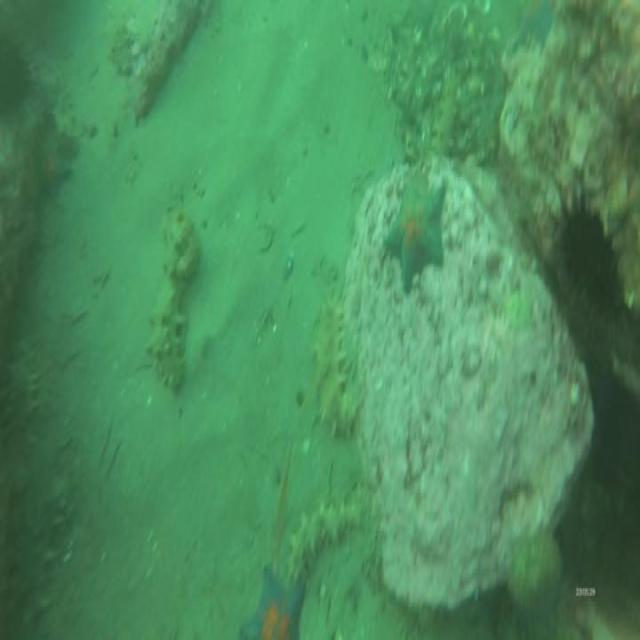echinus: (556, 201, 616, 319)
holothurian: (285, 487, 368, 577), (153, 209, 194, 390), (306, 283, 354, 434)
starfish: (389, 170, 447, 290), (243, 554, 309, 640)
